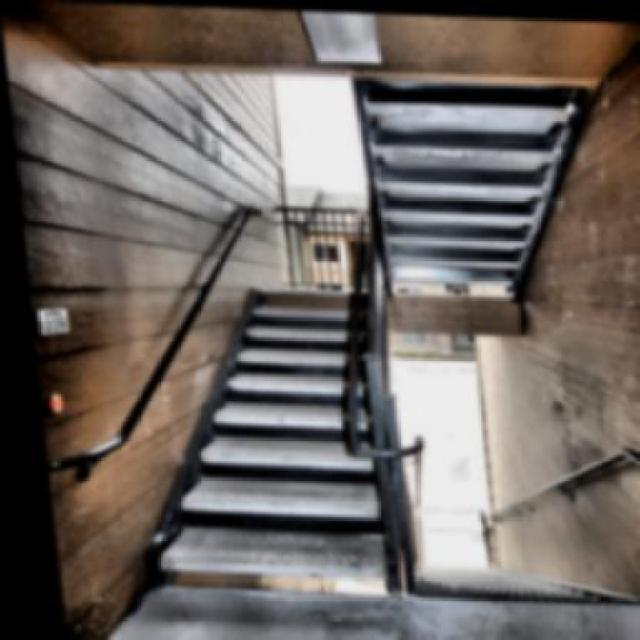stair: (106, 238, 391, 584)
